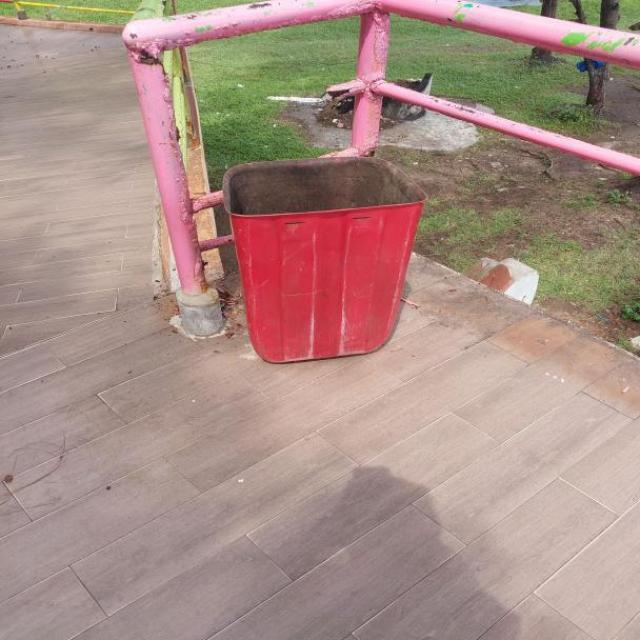dustbin ahead at: (223, 160, 421, 369)
